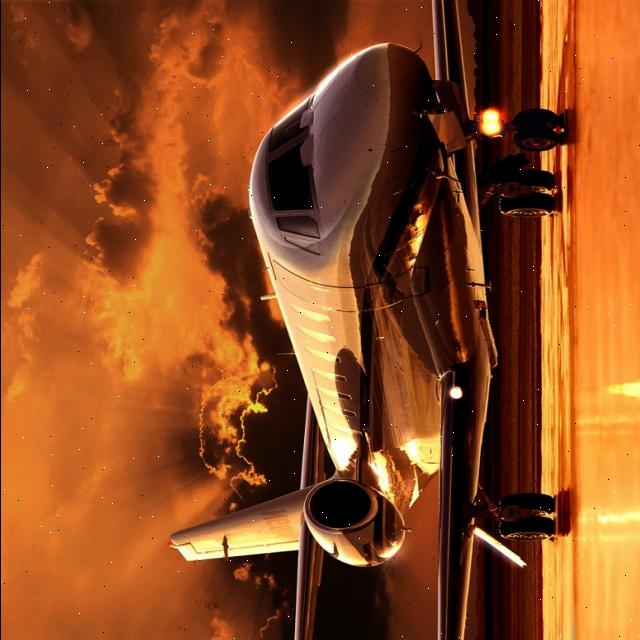jet: (98, 0, 614, 640)
